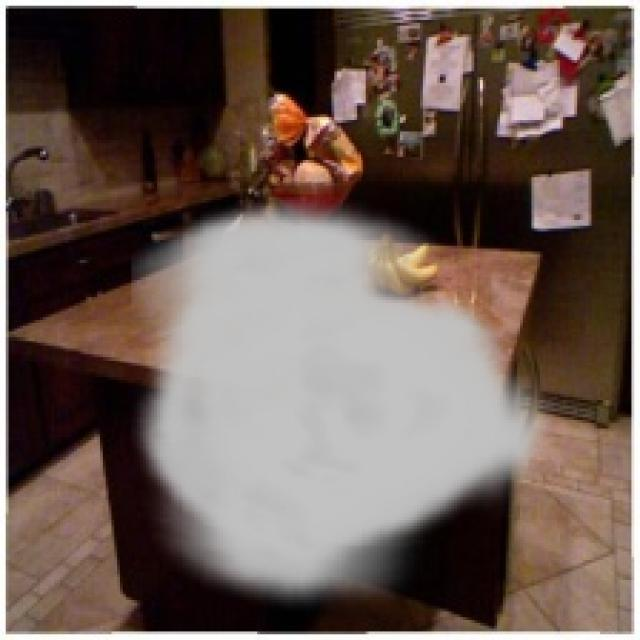Smoke: (132, 197, 554, 614)
